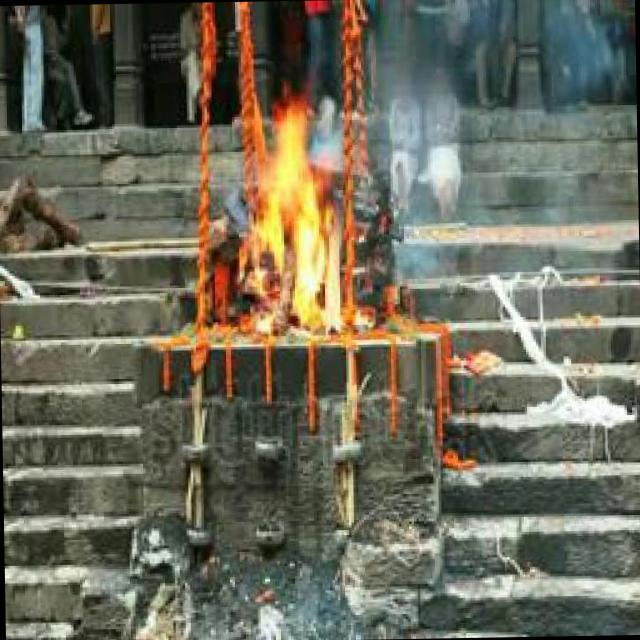Fire: (240, 90, 351, 337)
